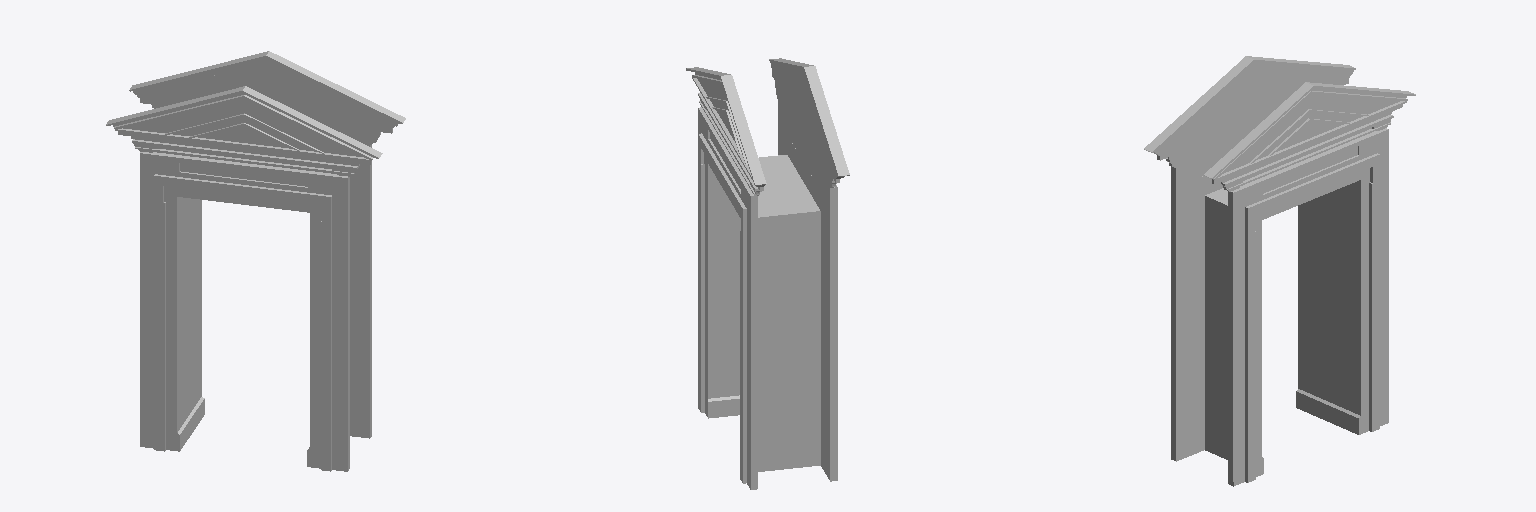
Rendered from door2.obj.
3 renders of one model, left to right at view 1: azimuth 30°, elevation 25°; view 2: azimuth 150°, elevation 25°; view 3: azimuth 270°, elevation 25°, orthographic.
Parts seen in each view (by area): view 1: pasted__pasted__Mesh2 pasted__pasted__portal0010 pasted__pasted_, pasted__pasted__Mesh2 pasted__pasted__Object003 pasted__pasted__; view 2: pasted__pasted__Mesh2 pasted__pasted__portal0010 pasted__pasted_, pasted__pasted__Mesh2 pasted__pasted__Object003 pasted__pasted__; view 3: pasted__pasted__Mesh2 pasted__pasted__portal0010 pasted__pasted_, pasted__pasted__Mesh2 pasted__pasted__Object003 pasted__pasted__.
Boxes of the visible parts, x1,y1,x2,y2 form: pasted__pasted__Mesh2 pasted__pasted__portal0010 pasted__pasted_: [106, 86, 382, 471]; pasted__pasted__Mesh2 pasted__pasted__Object003 pasted__pasted__: [129, 51, 405, 438]; pasted__pasted__Mesh2 pasted__pasted__portal0010 pasted__pasted_: [715, 58, 849, 481]; pasted__pasted__Mesh2 pasted__pasted__Object003 pasted__pasted__: [686, 67, 766, 489]; pasted__pasted__Mesh2 pasted__pasted__portal0010 pasted__pasted_: [1144, 56, 1355, 461]; pasted__pasted__Mesh2 pasted__pasted__Object003 pasted__pasted__: [1204, 82, 1415, 486].
Bounding box in the file's own units: 6.21 × 9.45 × 6.31.